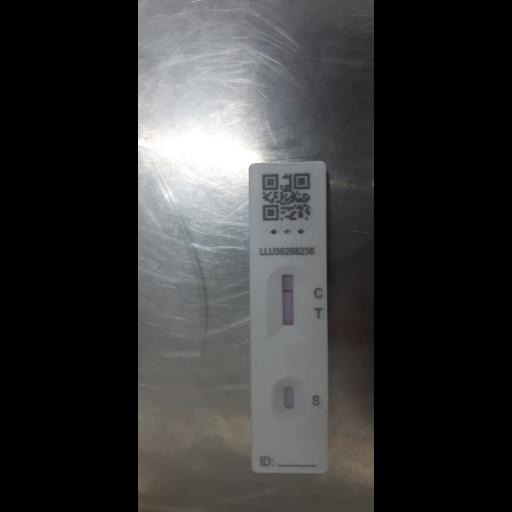Neg: (248, 161, 326, 475)
